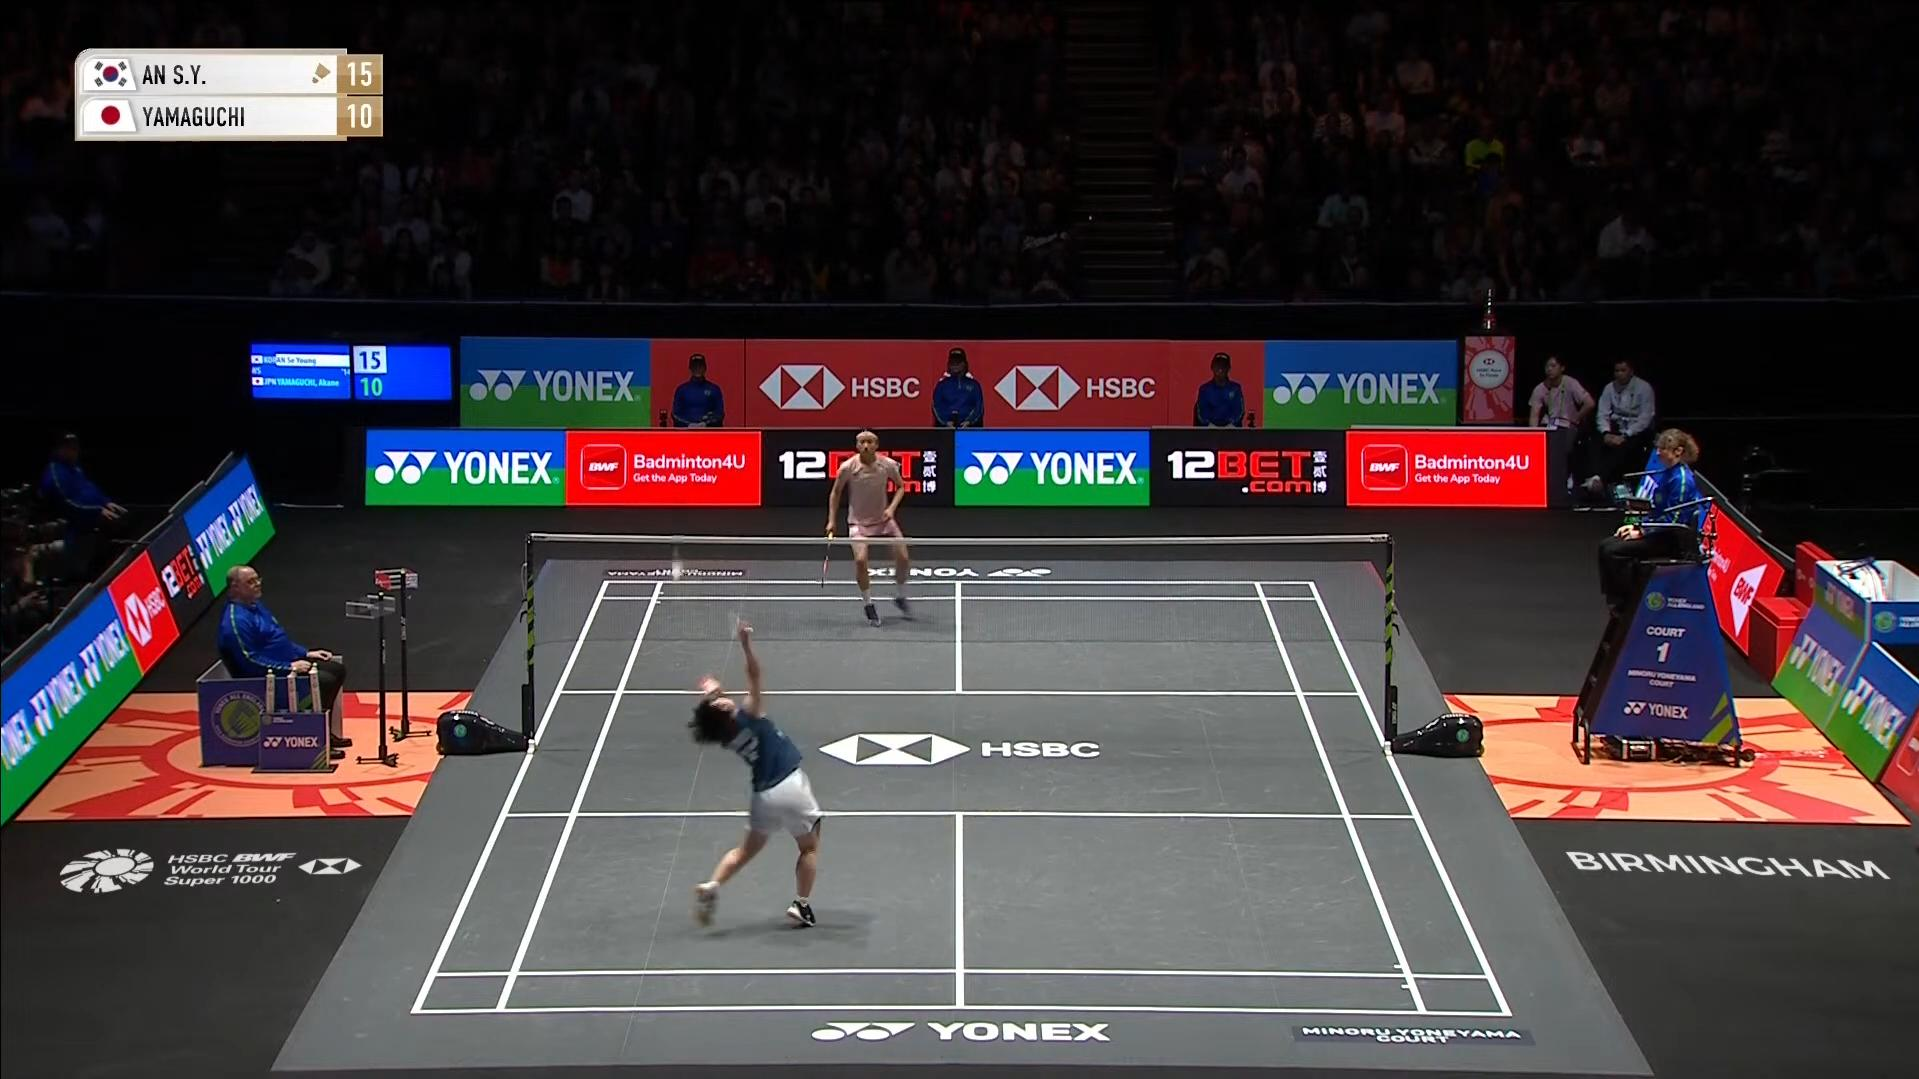shuttle: (664, 543, 688, 590)
